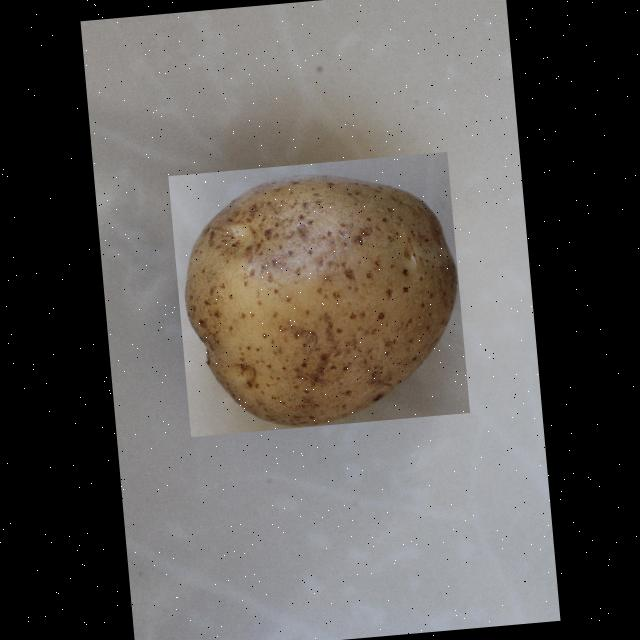Diseased-fungal potato: (168, 150, 470, 436)
